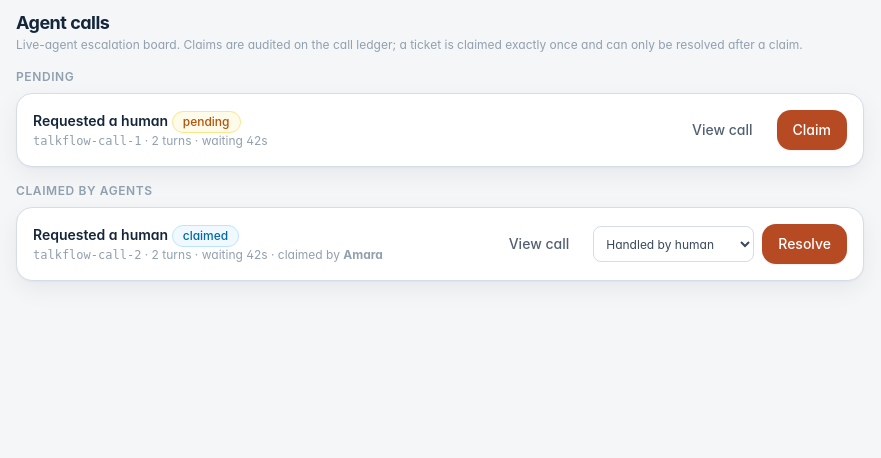
AgentCalls live-agent console › shows the transcript with caller fingerprints ONLY + citations — never caller text
Click the button "View call" in the row of "talkflow-call-1" at (722, 130), box [676, 110, 769, 150]
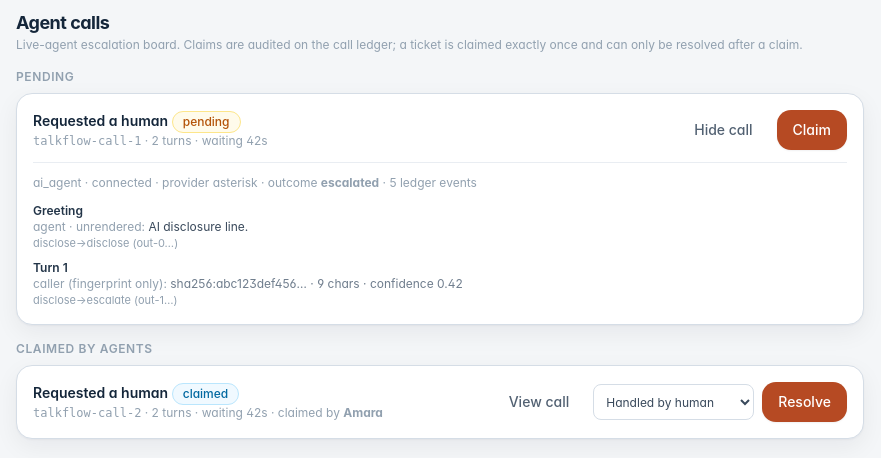
Result: the number of list items with test id "transcript-turn" is 2 at [33, 203, 248, 250]; [33, 260, 463, 306]
Result: the element with test id "agent-line" shows "AI disclosure line." at [148, 219, 248, 234]
Result: the element with test id "caller-fingerprint" shows "sha256:abc123def456" at [170, 276, 307, 290]
